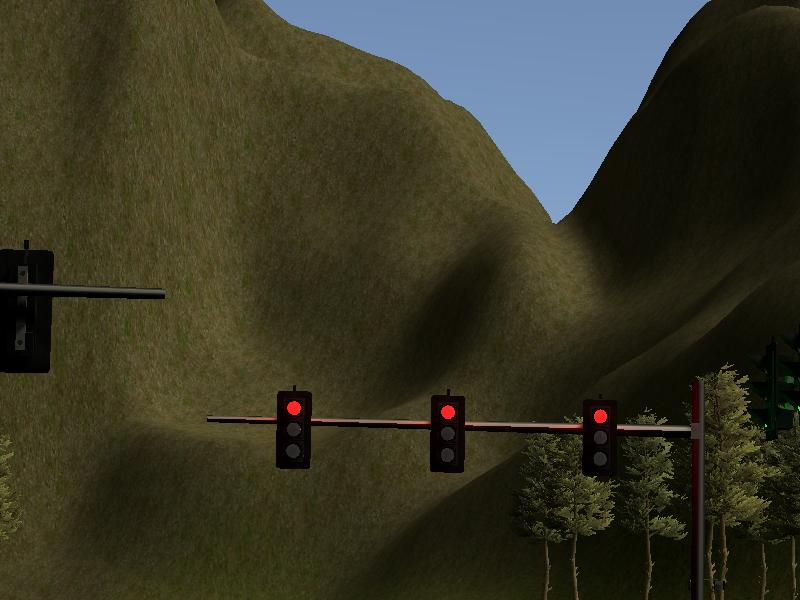Red: (275, 389, 312, 471), (431, 396, 464, 474), (583, 403, 616, 477)
